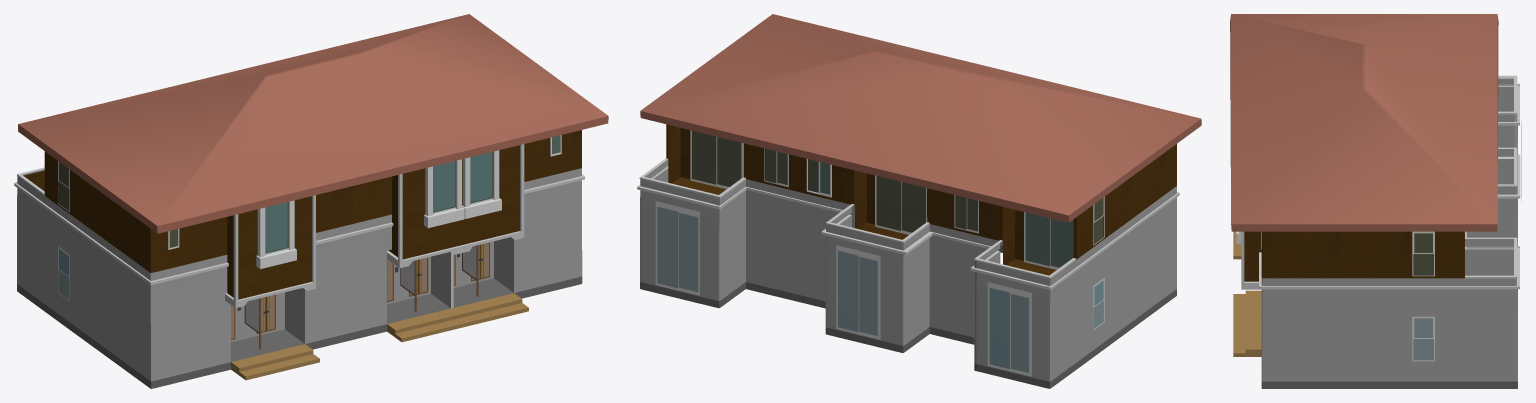
File: House_002_middle_snd.fbx
3 views of the same model, side by side, from view 1: azimuth 30°, elevation 25°; view 2: azimuth 150°, elevation 25°; view 3: azimuth 270°, elevation 25° (orthographic). The views are drawn at different scales.
Visible parts, largest first — view 1: pCube117; view 2: pCube117; view 3: pCube117.
Boxes of the visible parts, x1,y1,x2,y2 form: pCube117: (14, 14, 608, 388); pCube117: (637, 14, 1201, 388); pCube117: (1230, 14, 1521, 388).
Bounding box in the file's own units: 1943 × 955 × 1138.
17 materials, 1 textured.
